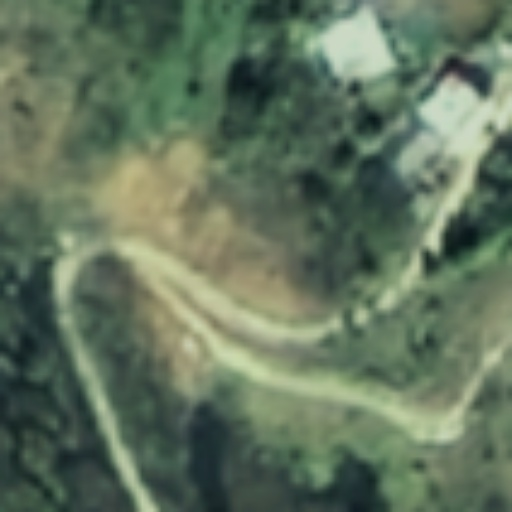landslide: (102, 137, 294, 313)
